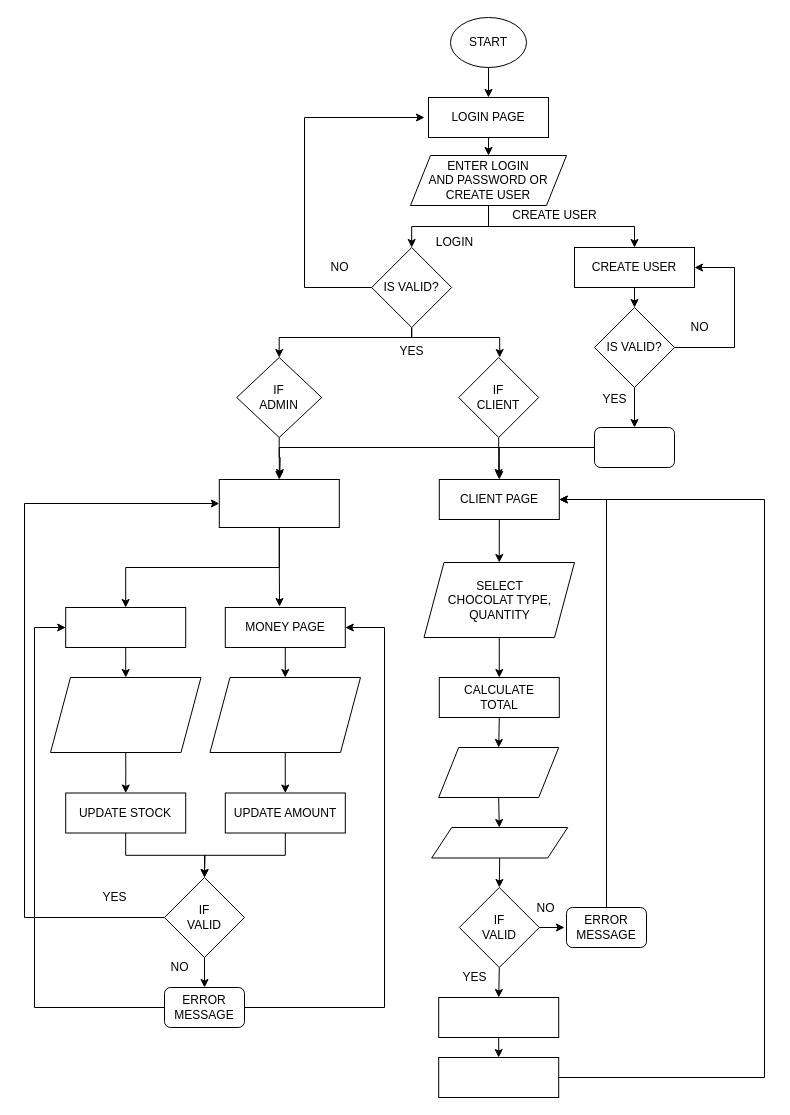
Image size: 790x1115. Some labels were removed from this diagram. Each missing label, with the centre of its shape:
"ADMIN PAGE WITH CURRENT STOCK / MONEY" belongs at [278,503].
"CALCULATE CHANGE" belongs at [498,1017].
"CHOCOLAT PAGE" belongs at [125,627].
"CONFIRM MESSAGE" belongs at [634,447].
"CONFIRM ORDER" belongs at [499,842].
"ORDER RESUME" belongs at [498,1077].
"SELECT CHOCOLAT TYPE, QUANTITY, PRICE" belongs at [125,714].
"SELECT COINS/BILLS" belongs at [498,772].
"SELECT MONEY TYPE AND AMOUNT" belongs at [284,714].
